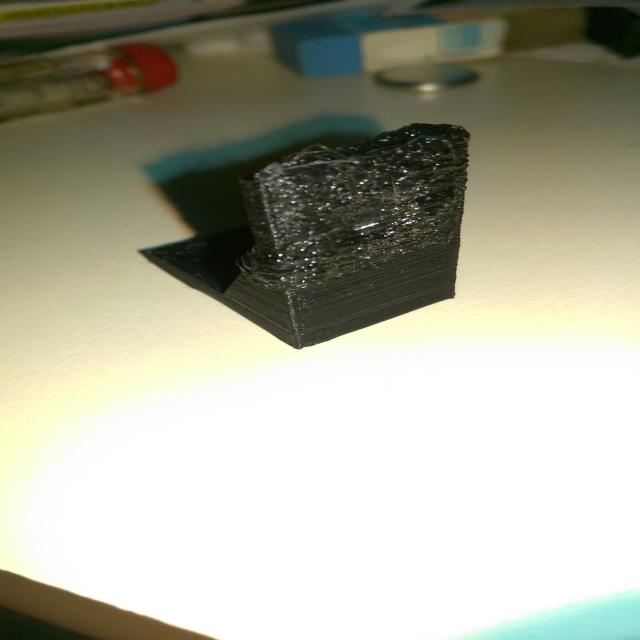blobs: (245, 113, 494, 298)
